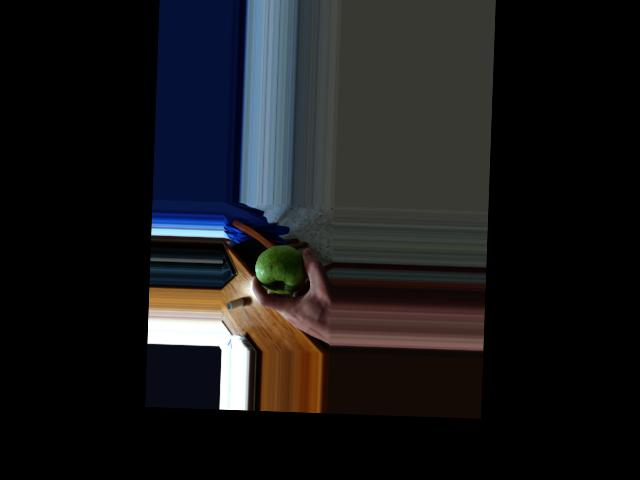apple: (252, 243, 308, 296)
